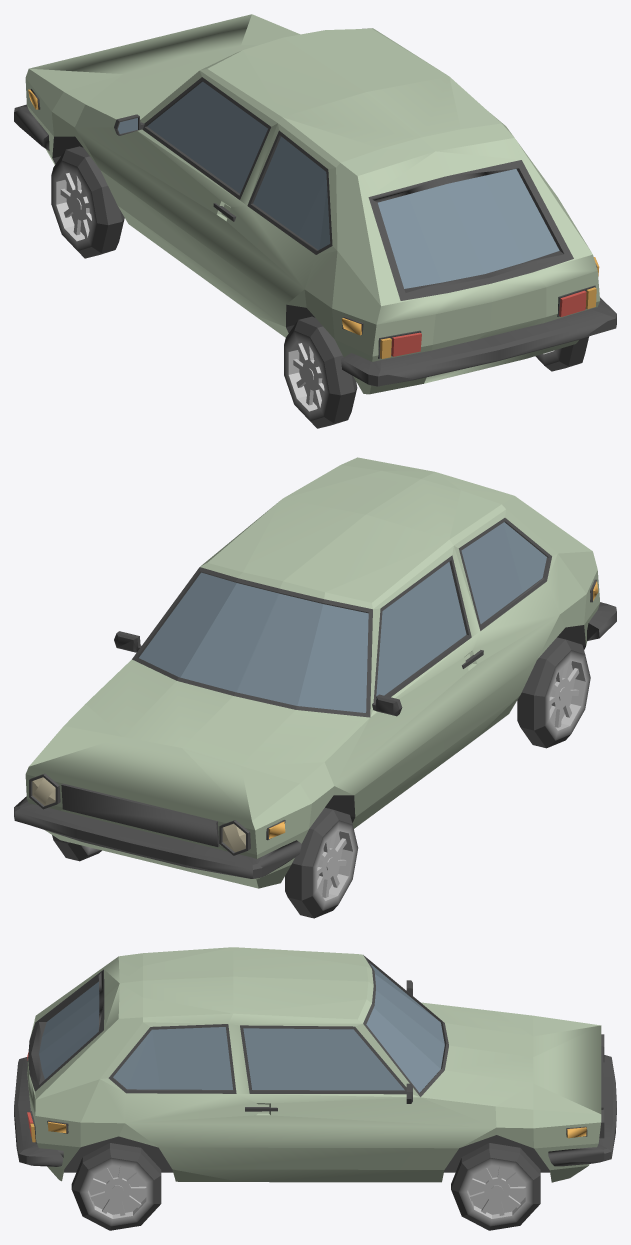
Rendered from art-hatch70.glb.
3 renders of one model, top to bottom at view 1: azimuth 30°, elevation 25°; view 2: azimuth 150°, elevation 25°; view 3: azimuth 270°, elevation 25°, orthographic. The views are drawn at different scales.
Parts seen in each view (by area): view 1: paint, glass, trim, wheel_rl, wheel_fl, light, wheel_rr; view 2: paint, glass, trim, wheel_rl, wheel_fl, light; view 3: paint, glass, trim, wheel_rr, wheel_fr, light.
Boxes of the visible parts, bbox=[...] form: paint: bbox=[25, 14, 600, 394]; glass: bbox=[118, 81, 559, 288]; trim: bbox=[14, 77, 616, 386]; wheel_rl: bbox=[284, 316, 357, 428]; wheel_fl: bbox=[51, 146, 124, 258]; light: bbox=[28, 89, 599, 358]; wheel_rr: bbox=[535, 336, 588, 371]; paint: bbox=[25, 457, 600, 888]; glass: bbox=[139, 522, 546, 712]; trim: bbox=[14, 518, 616, 878]; wheel_rl: bbox=[517, 637, 590, 748]; wheel_fl: bbox=[285, 807, 358, 918]; light: bbox=[32, 581, 598, 852]; paint: bbox=[27, 947, 601, 1182]; glass: bbox=[39, 963, 444, 1092]; trim: bbox=[14, 955, 616, 1172]; wheel_rr: bbox=[71, 1143, 161, 1230]; wheel_fr: bbox=[451, 1143, 540, 1230]; light: bbox=[27, 1052, 586, 1142].
Bounding box in the file's own units: 1.74 × 1.46 × 3.9.
